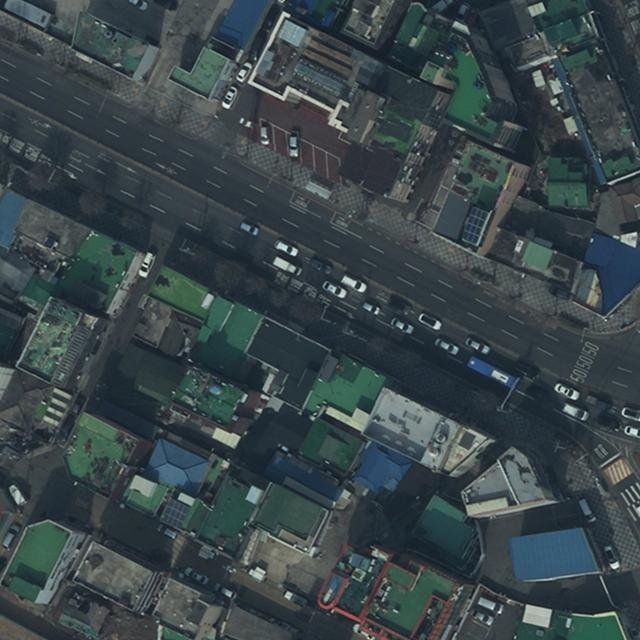panel: (459, 206, 488, 243), (157, 496, 188, 528)
